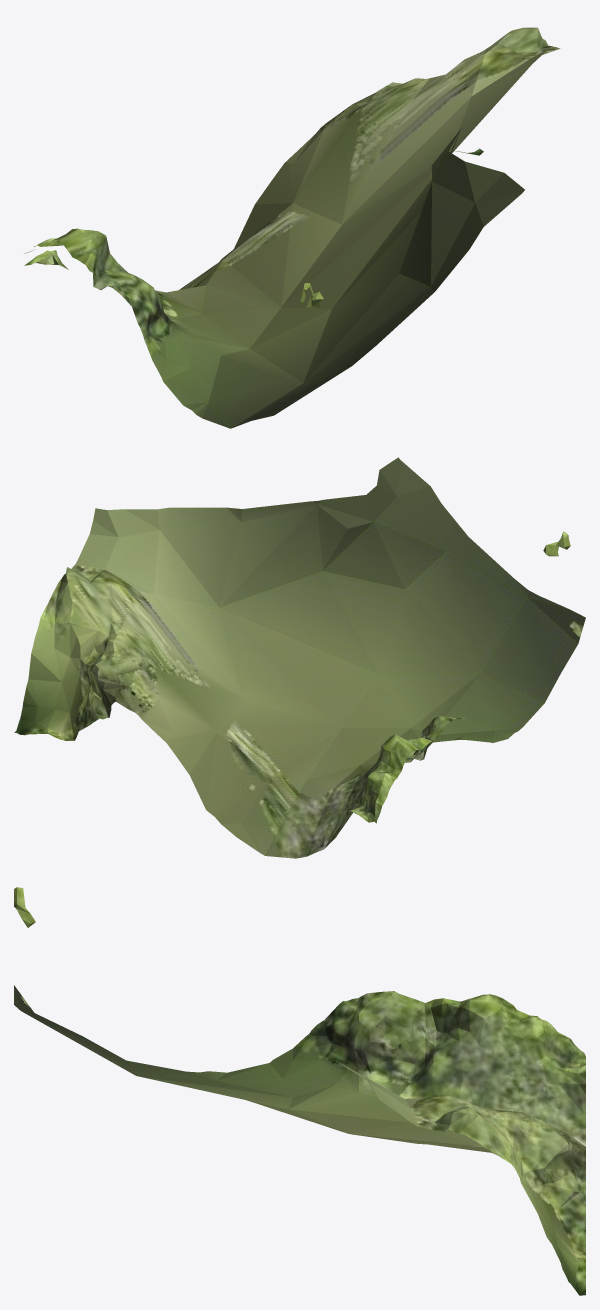
3 renders of one model, top to bottom at view 1: azimuth 30°, elevation 25°; view 2: azimuth 150°, elevation 25°; view 3: azimuth 270°, elevation 25°, orthographic. The views are drawn at different scales.
Bounding box in the file's own units: 26.11 × 15.61 × 26.11.
Materials: 3 (3 with a texture image).
